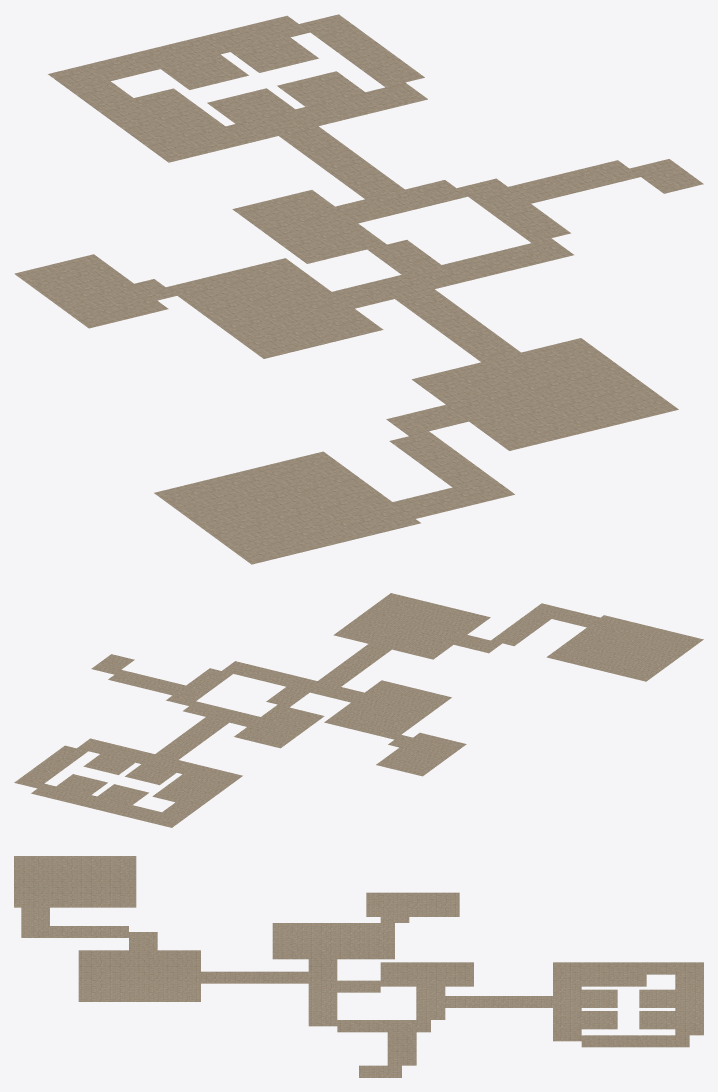
File: Level3Ground.fbx
The picture shows the model from 3 angles, top to bottom: view 1: azimuth 30°, elevation 25°; view 2: azimuth 150°, elevation 25°; view 3: azimuth 270°, elevation 25°; orthographic projection. The views are drawn at different scales.
Visible parts, largest first — view 1: Level3Ground; view 2: Level3Ground; view 3: Level3Ground.
Part boxes in pixels (box(x1,y1,x2,y2)): Level3Ground: box(14, 14, 703, 564); Level3Ground: box(14, 593, 703, 827); Level3Ground: box(14, 856, 703, 1077).
Bounding box in the file's own units: 73 × 0 × 96.
